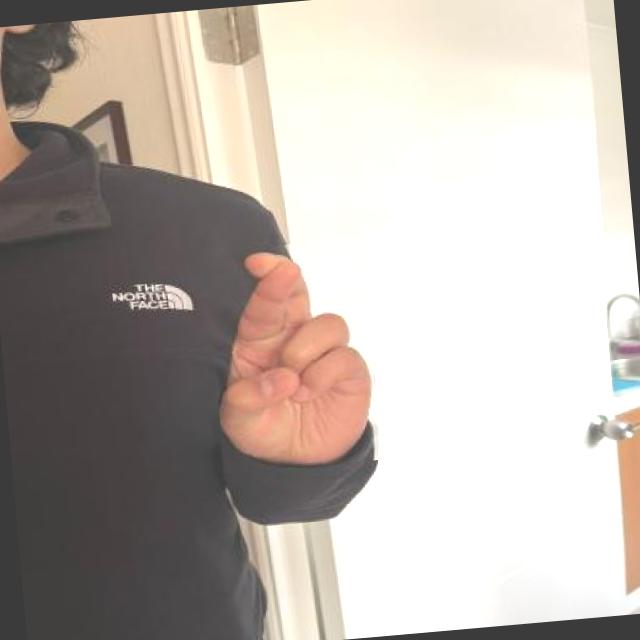R: (205, 237, 384, 473)
